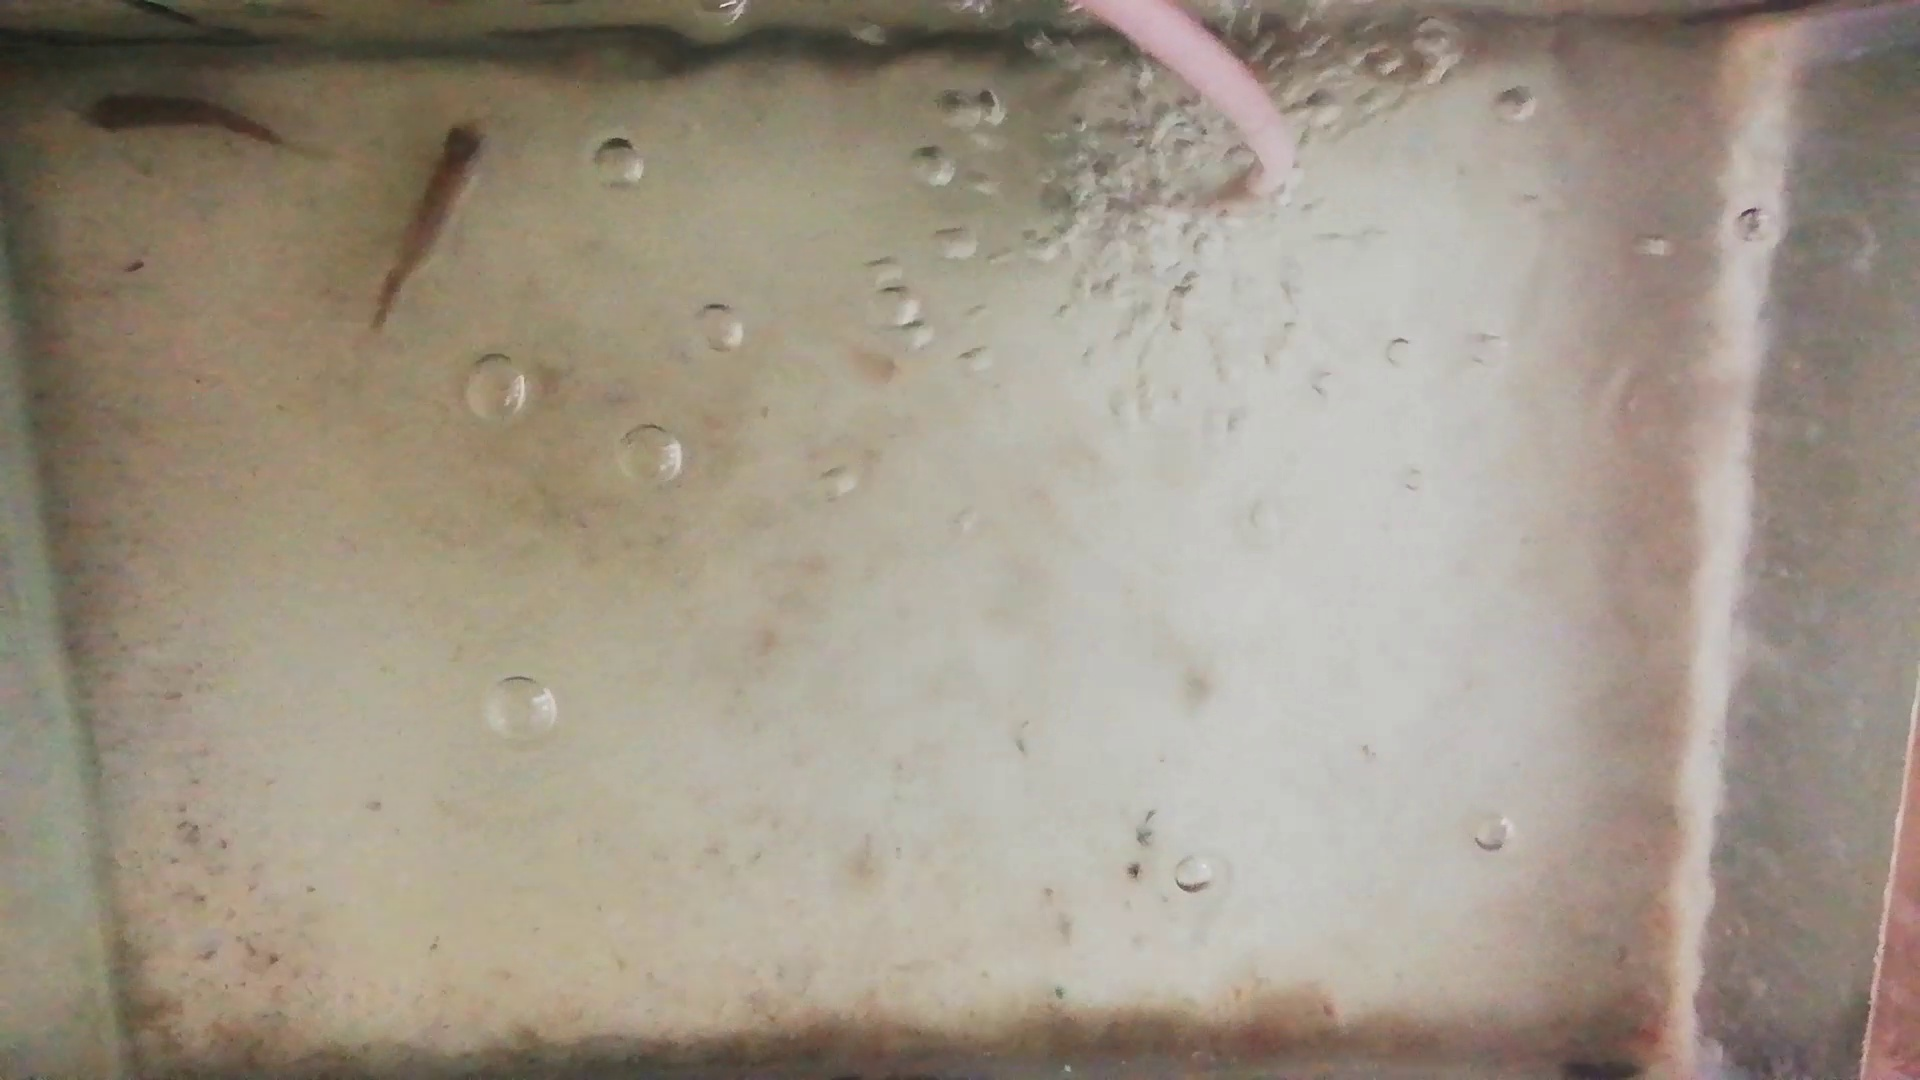fish: (373, 115, 491, 328), (73, 91, 276, 142)
